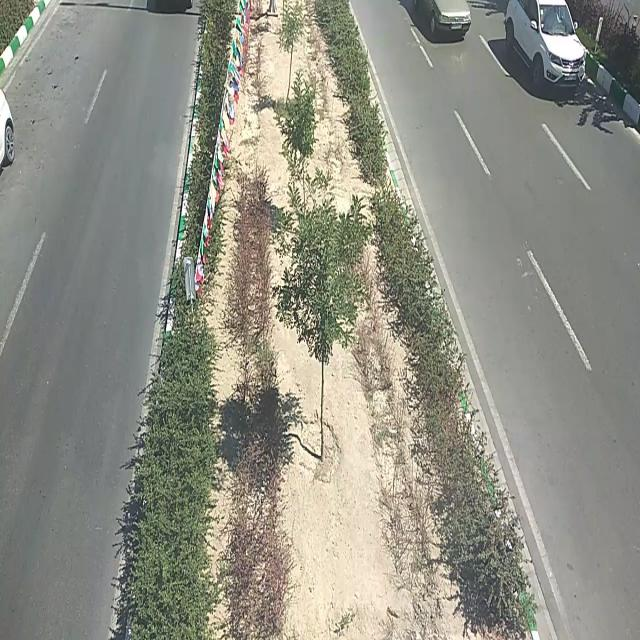car: (505, 0, 588, 92), (411, 5, 473, 42)
